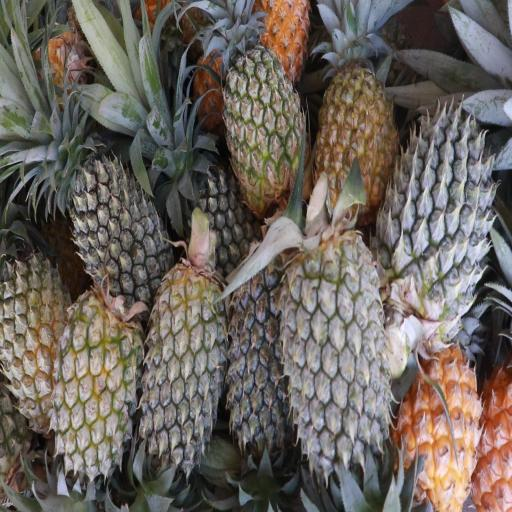------------------------------: (52, 292, 137, 482), (224, 40, 307, 205), (0, 248, 69, 435)
Pineapple - v8 v1: (398, 340, 479, 510), (316, 60, 396, 214)
